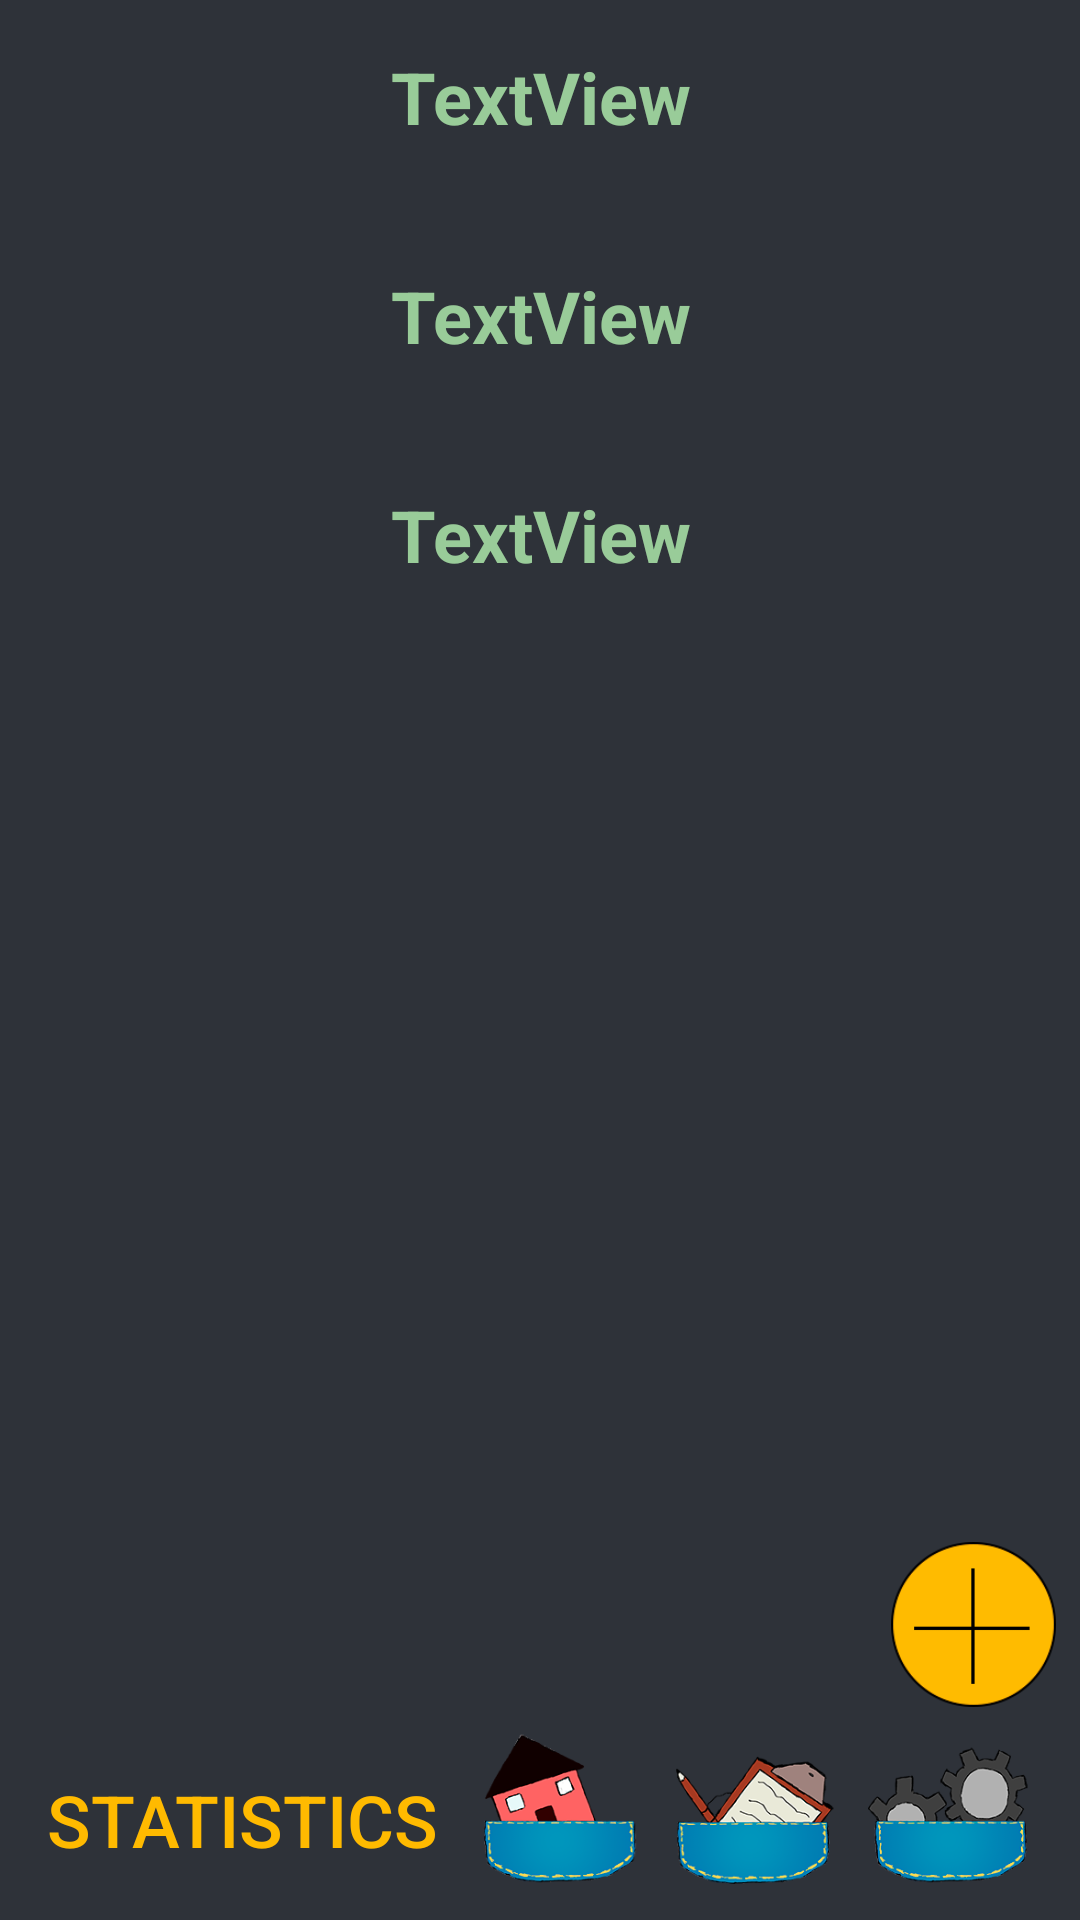

Where icons sit on this 1080px x 1920px app screen, as detection(x1, y1, x2, y2):
add: detection(891, 1542, 1056, 1707)
home: detection(484, 1735, 635, 1882)
inventory: detection(676, 1757, 833, 1884)
settings: detection(868, 1748, 1027, 1882)
